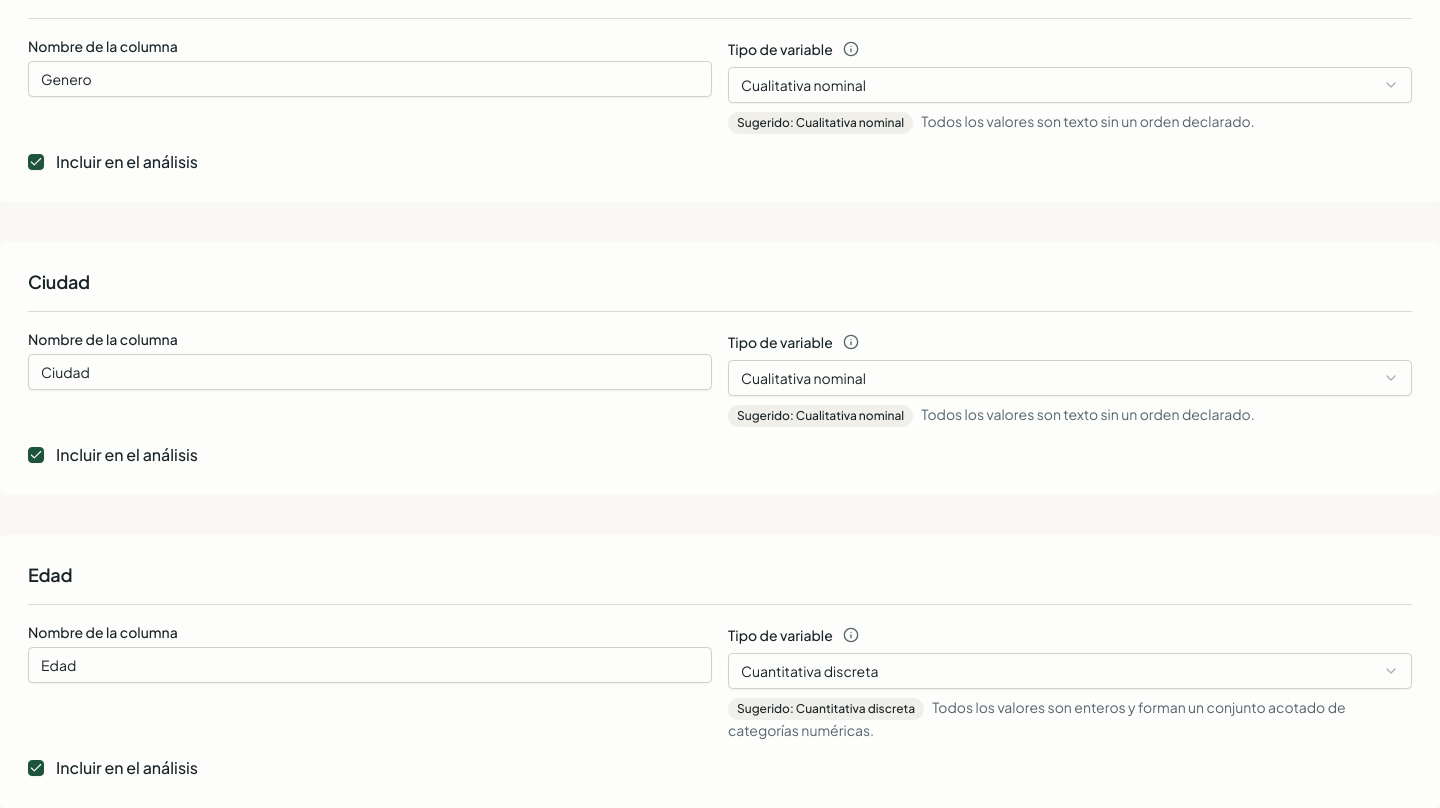
StepVariables › renombra una columna
This screenshot has width=1440, height=808.
(page scrolled)
Clear the field labelled "Nombre de la columna" below "Edad": (370, 665) [28,647,712,683]
(page scrolled)
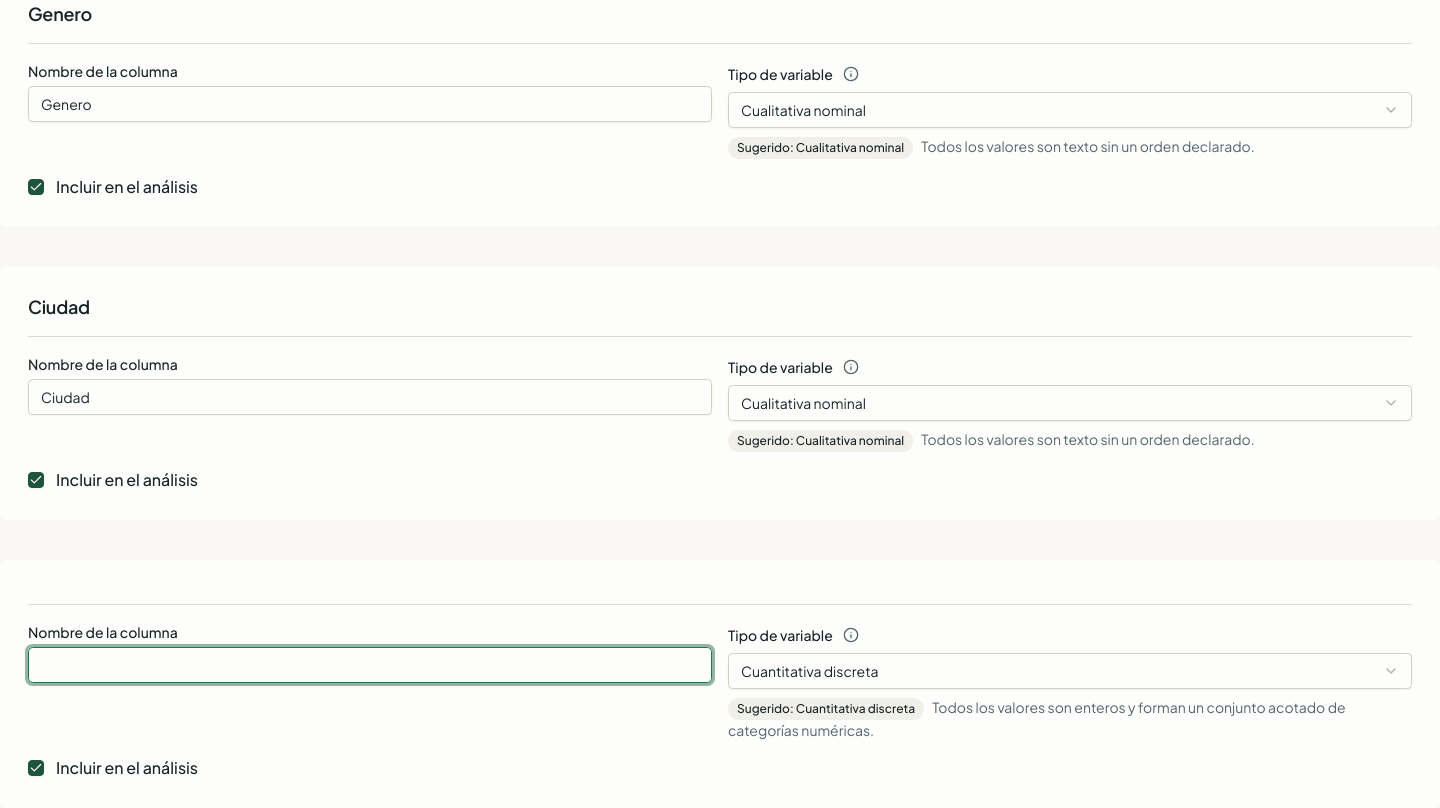
In the 3rd field labelled "Nombre de la columna": (370, 665) [28,647,712,683], type "Edad en años"
(page scrolled)
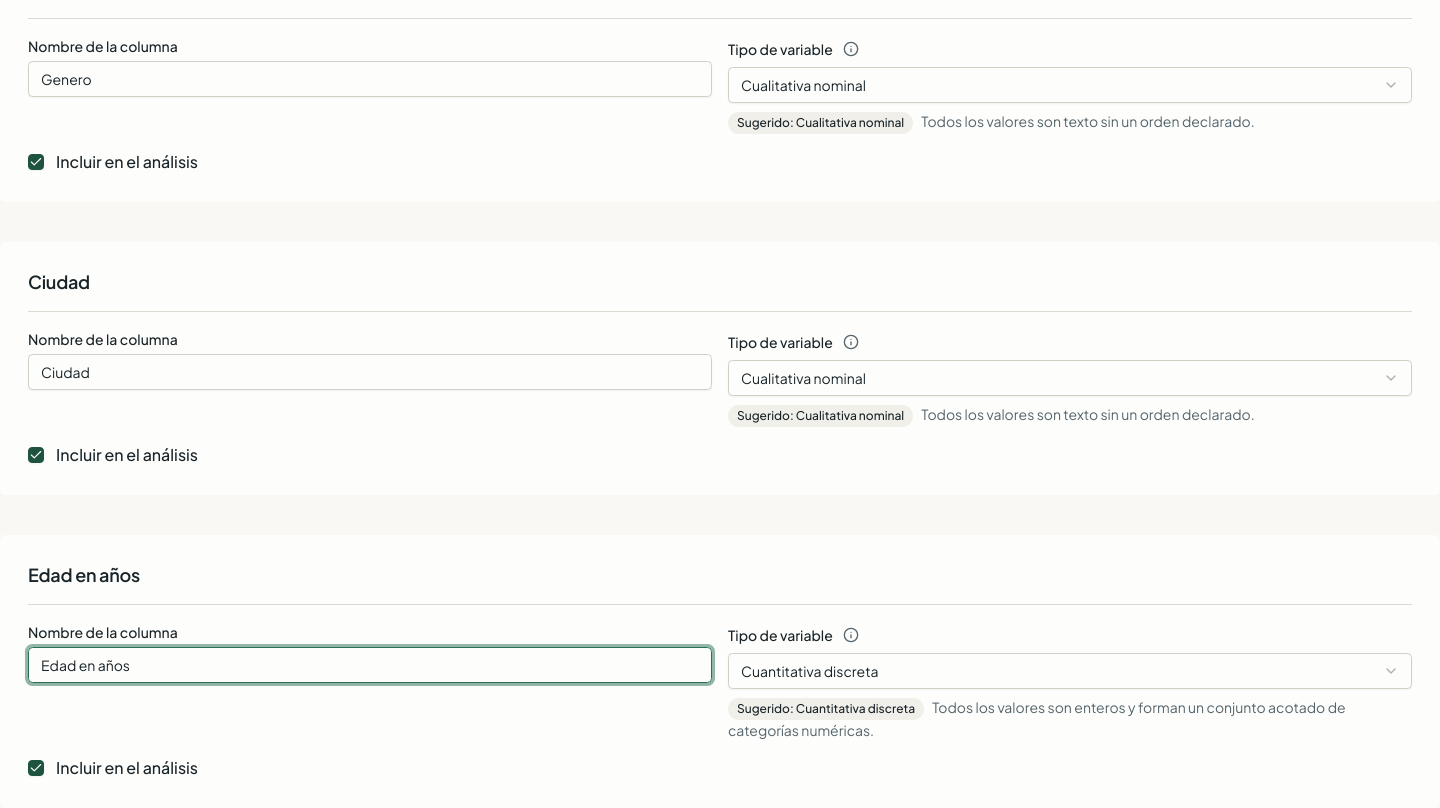
Now the heading "Edad en años" is shown, box [28,563,140,588]
